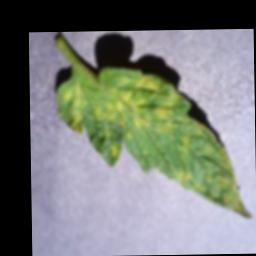Leaf_Mold: (55, 63, 252, 222)
